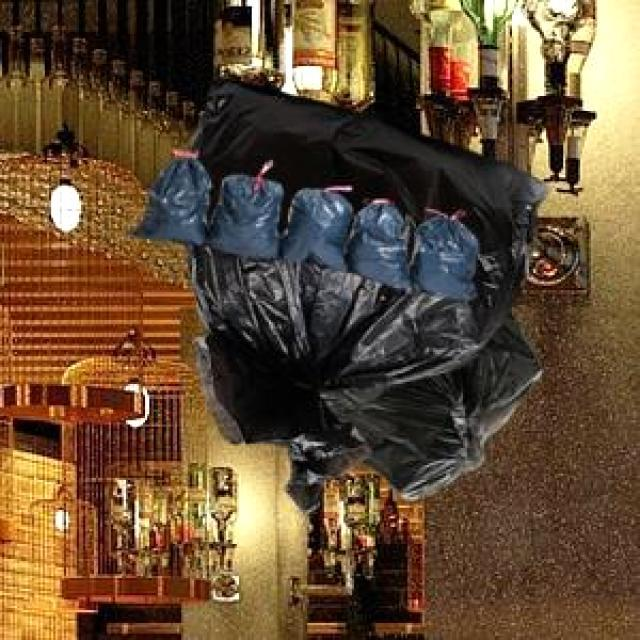Garbage_Bag: (182, 74, 545, 514), (122, 152, 474, 296), (314, 310, 536, 496)
